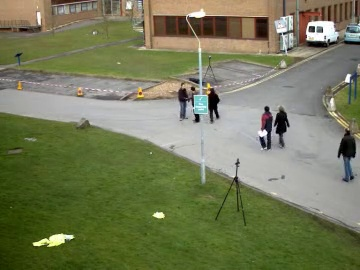person: (177, 80, 197, 119), (177, 82, 197, 121), (178, 80, 197, 119)
